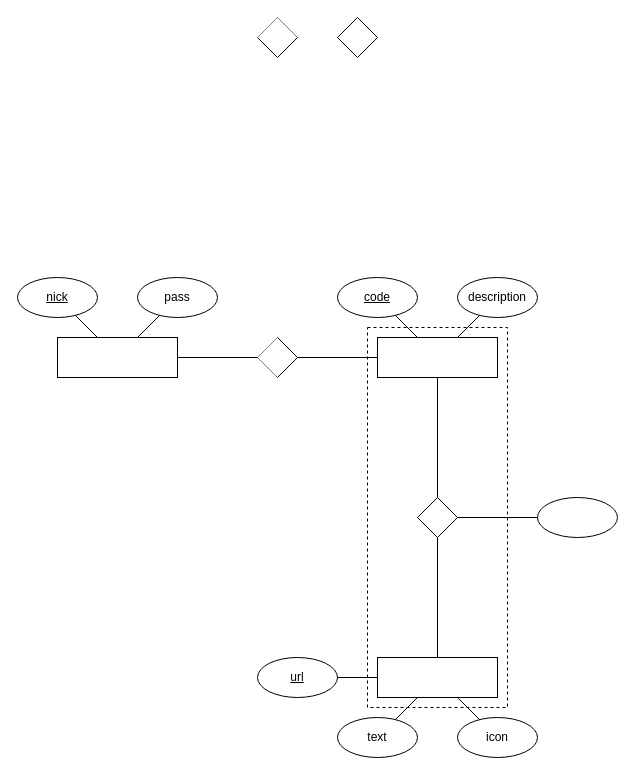
This 635x775 diagram has some shape labels left out. Here are the shapes that lost their labels. From the top down, the centre of each, then its label:
pixel 117 357: User
pixel 437 357: UserType
pixel 577 517: isActive
pixel 437 677: Menu
